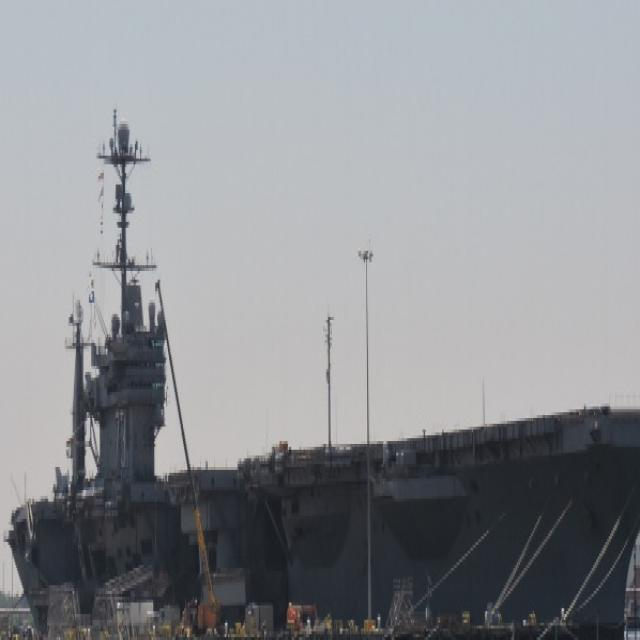Portanaves: (1, 93, 640, 640)
